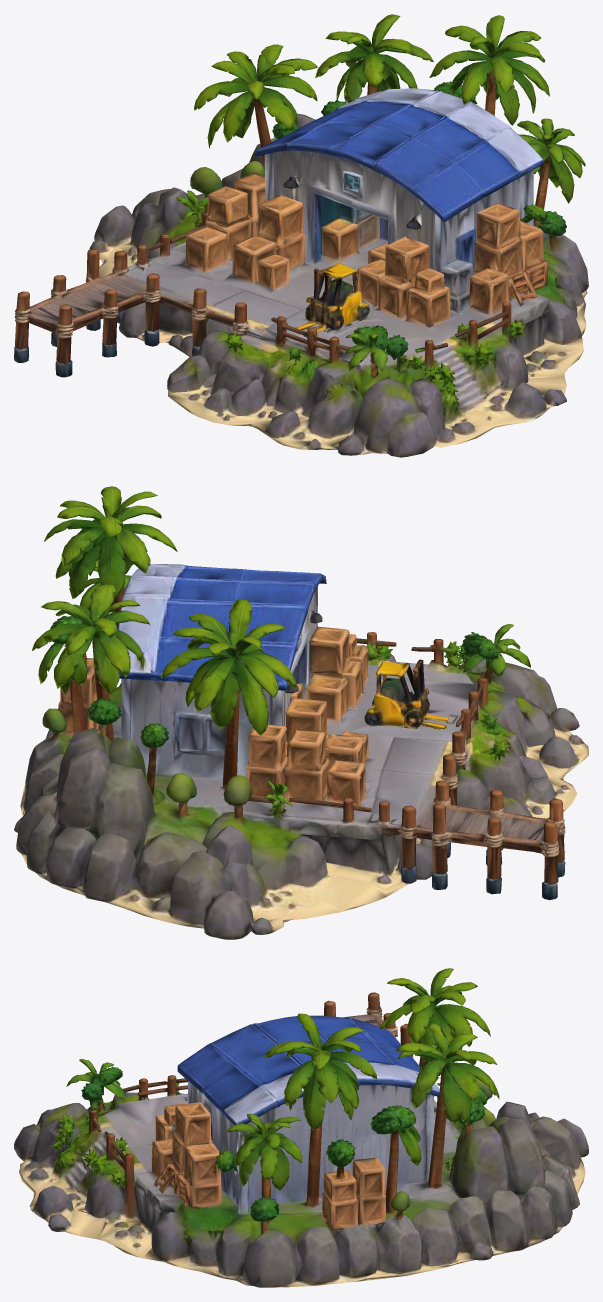
The model's file is recebiveis.glb.
3 renders of one model, top to bottom at view 1: azimuth 30°, elevation 25°; view 2: azimuth 150°, elevation 25°; view 3: azimuth 270°, elevation 25°, orthographic. The views are drawn at different scales.
Visible parts, largest first — view 1: tripo_node_607d98aa-7927-4238-b32f-38fd0bd15a6c; view 2: tripo_node_607d98aa-7927-4238-b32f-38fd0bd15a6c; view 3: tripo_node_607d98aa-7927-4238-b32f-38fd0bd15a6c.
Part boxes in pixels (<box>): tripo_node_607d98aa-7927-4238-b32f-38fd0bd15a6c: <box>14,14,588,457</box>; tripo_node_607d98aa-7927-4238-b32f-38fd0bd15a6c: <box>14,486,588,939</box>; tripo_node_607d98aa-7927-4238-b32f-38fd0bd15a6c: <box>14,968,588,1287</box>.
Bounding box in the file's own units: 0.9386 × 0.4473 × 0.978.
Materials: 1 (1 with a texture image).
